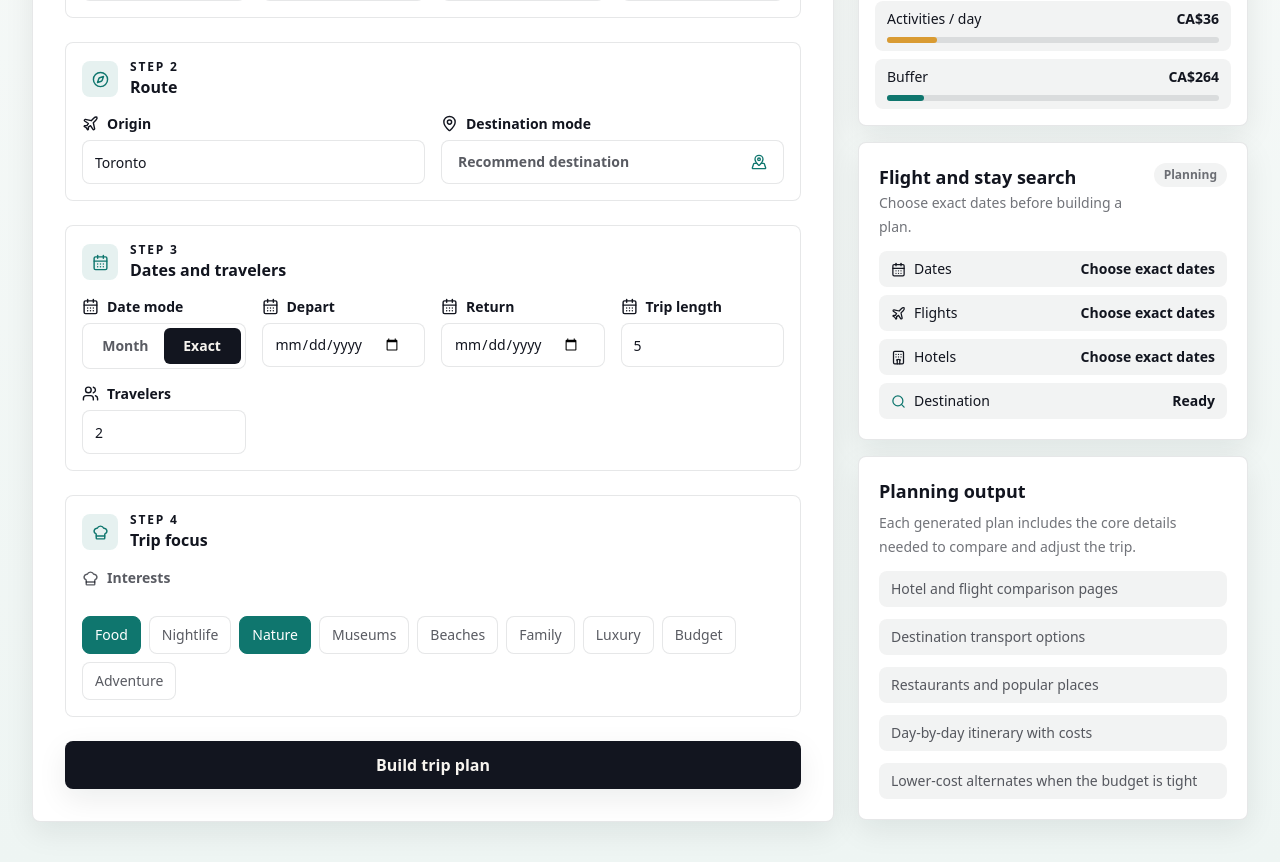
TripPlannerWizard › blocks trip planning until exact dates are selected
(page scrolled)
Click the button "Build trip plan": click(433, 765) [65,741,801,789]
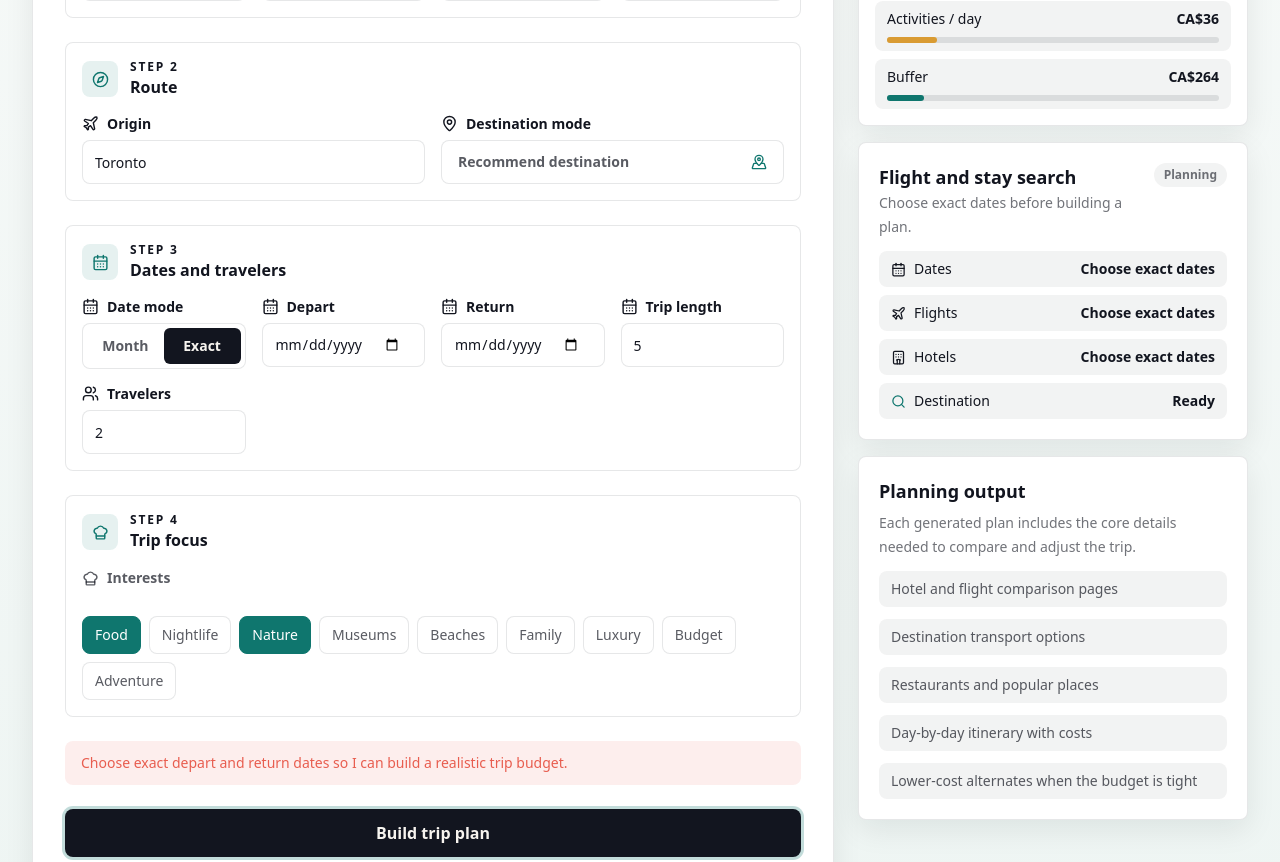
Result: the text "Choose exact depart and return dates so I can build a realistic trip budget" is shown at [81,753,568,772]
